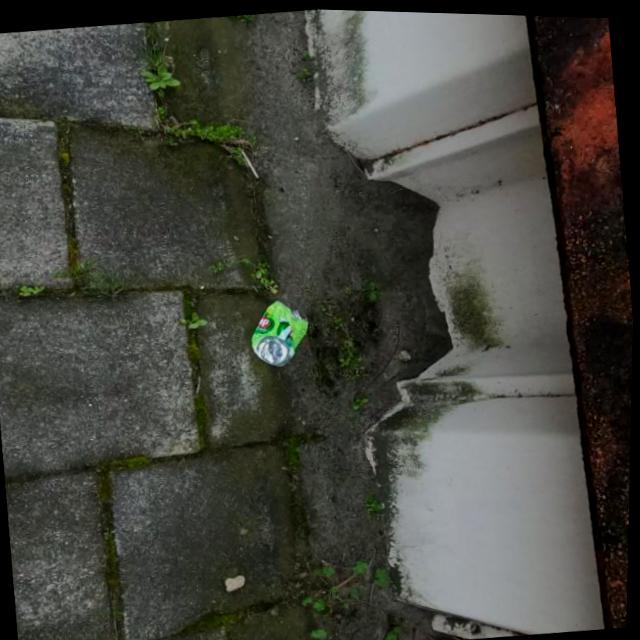Can-Metal: (246, 292, 316, 368)
